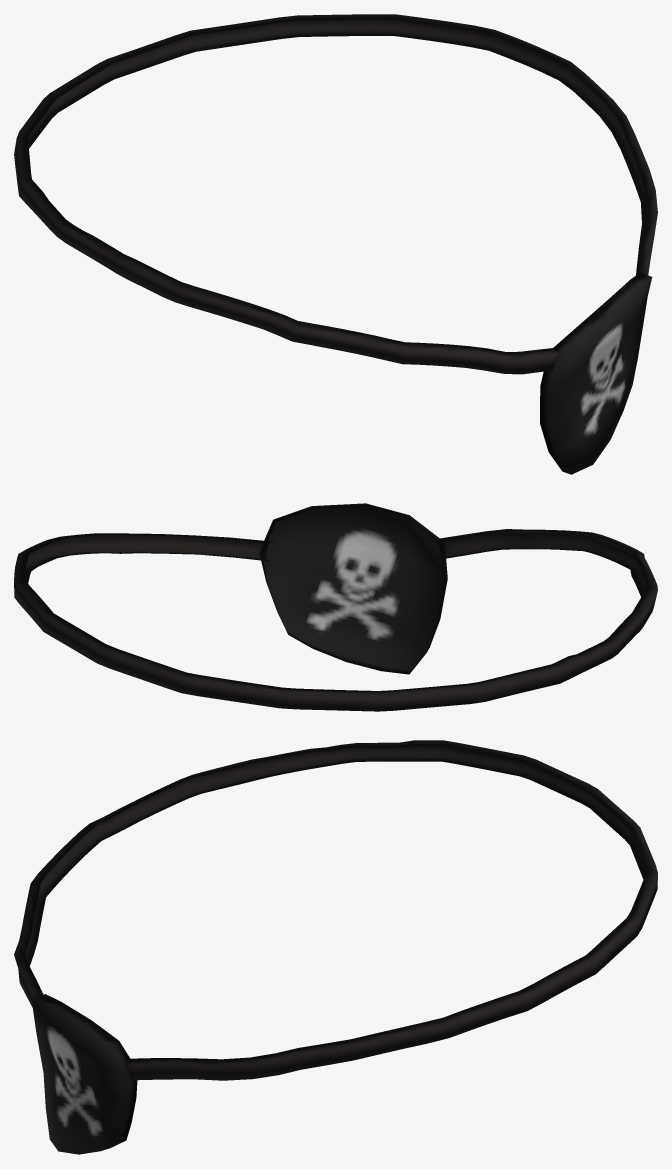
Rendered from Eye Patch.fbx.
3 views of the same model, one above another, from view 1: azimuth 30°, elevation 25°; view 2: azimuth 150°, elevation 25°; view 3: azimuth 270°, elevation 25° (orthographic). The views are drawn at different scales.
Visible parts, largest first — view 1: Attachment_EyePatch; view 2: Attachment_EyePatch; view 3: Attachment_EyePatch.
Part boxes in pixels (x1,y1,x2,y2): Attachment_EyePatch: (14,14,657,474); Attachment_EyePatch: (14,503,657,711); Attachment_EyePatch: (14,740,657,1154).
Bounding box in the file's own units: 56.36 × 22.51 × 56.2.
